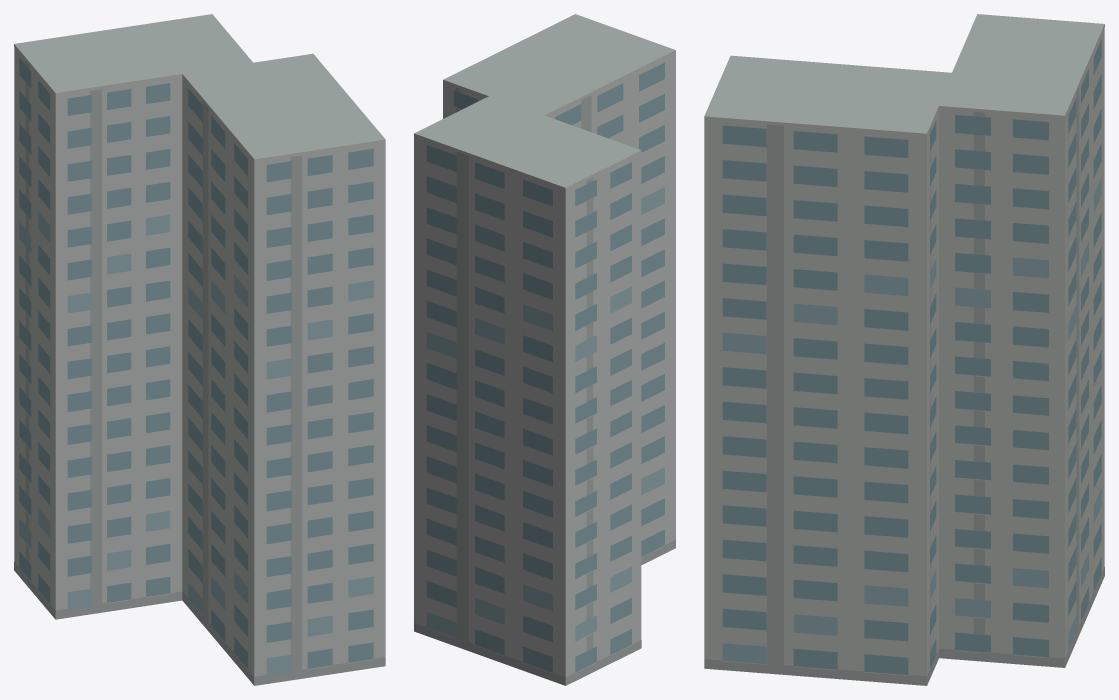
File: residential-e41ca8aa-5cbc-41d9-bf09-8f80ea06a792.glb
The picture shows the model from 3 angles, left to right: view 1: azimuth 30°, elevation 25°; view 2: azimuth 150°, elevation 25°; view 3: azimuth 270°, elevation 25°; orthographic projection. The views are drawn at different scales.
Visible parts, largest first — view 1: residential-e41ca8aa-5cbc-41d9-bf09-8f80ea06a792.tmp; view 2: residential-e41ca8aa-5cbc-41d9-bf09-8f80ea06a792.tmp; view 3: residential-e41ca8aa-5cbc-41d9-bf09-8f80ea06a792.tmp.
Part boxes in pixels (box(x1,y1,x2,y2)): residential-e41ca8aa-5cbc-41d9-bf09-8f80ea06a792.tmp: box(14, 14, 385, 685); residential-e41ca8aa-5cbc-41d9-bf09-8f80ea06a792.tmp: box(414, 14, 675, 685); residential-e41ca8aa-5cbc-41d9-bf09-8f80ea06a792.tmp: box(704, 14, 1104, 685).
Bounding box in the file's own units: 19.52 × 42 × 27.62.
